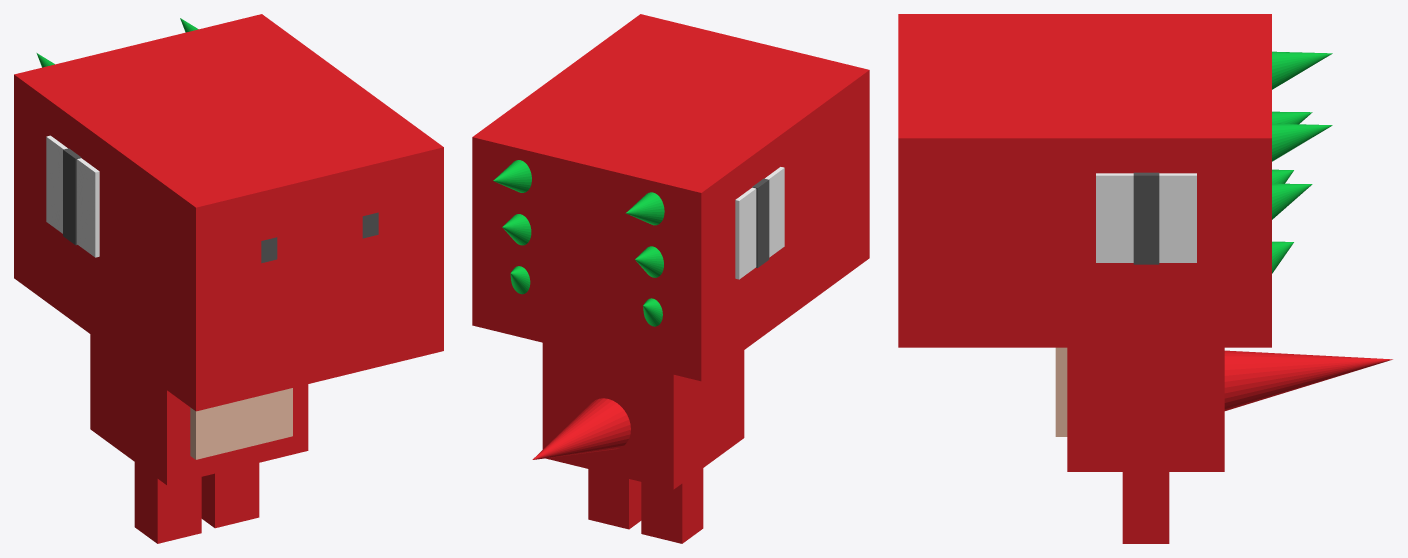
Rendered from PlayerRed.fbx.
3 views of the same model, side by side, from view 1: azimuth 30°, elevation 25°; view 2: azimuth 150°, elevation 25°; view 3: azimuth 270°, elevation 25° (orthographic). The views are drawn at different scales.
Visible parts, largest first — view 1: RED:RED_HEAD, RED:RED_BODY, RED:RED_LEG_L, RED:RED_LEG_R; view 2: RED:RED_HEAD, RED:RED_BODY, RED:RED_LEG_L, RED:RED_TAIL, RED:RED_LEG_R; view 3: RED:RED_HEAD, RED:RED_BODY, RED:RED_TAIL, RED:RED_LEG_R.
Boxes of the visible parts, x1,y1,x2,y2 form: RED:RED_HEAD: (14, 14, 443, 411); RED:RED_BODY: (90, 334, 308, 485); RED:RED_LEG_L: (134, 462, 201, 543); RED:RED_LEG_R: (201, 463, 259, 528); RED:RED_HEAD: (472, 14, 869, 381); RED:RED_BODY: (542, 343, 744, 489); RED:RED_LEG_L: (641, 468, 703, 543); RED:RED_TAIL: (532, 398, 630, 459); RED:RED_LEG_R: (588, 469, 641, 529); RED:RED_HEAD: (898, 14, 1332, 347); RED:RED_BODY: (1055, 347, 1224, 471); RED:RED_TAIL: (1224, 350, 1392, 410); RED:RED_LEG_R: (1122, 472, 1169, 543).
Size of the model in its own units: 2.93 by 4.68 by 4.72.
